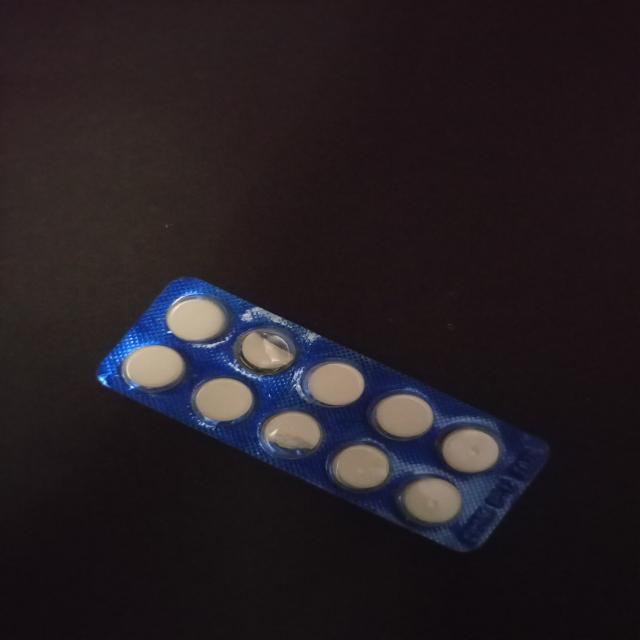defect: (230, 325, 304, 378), (256, 407, 326, 462)
